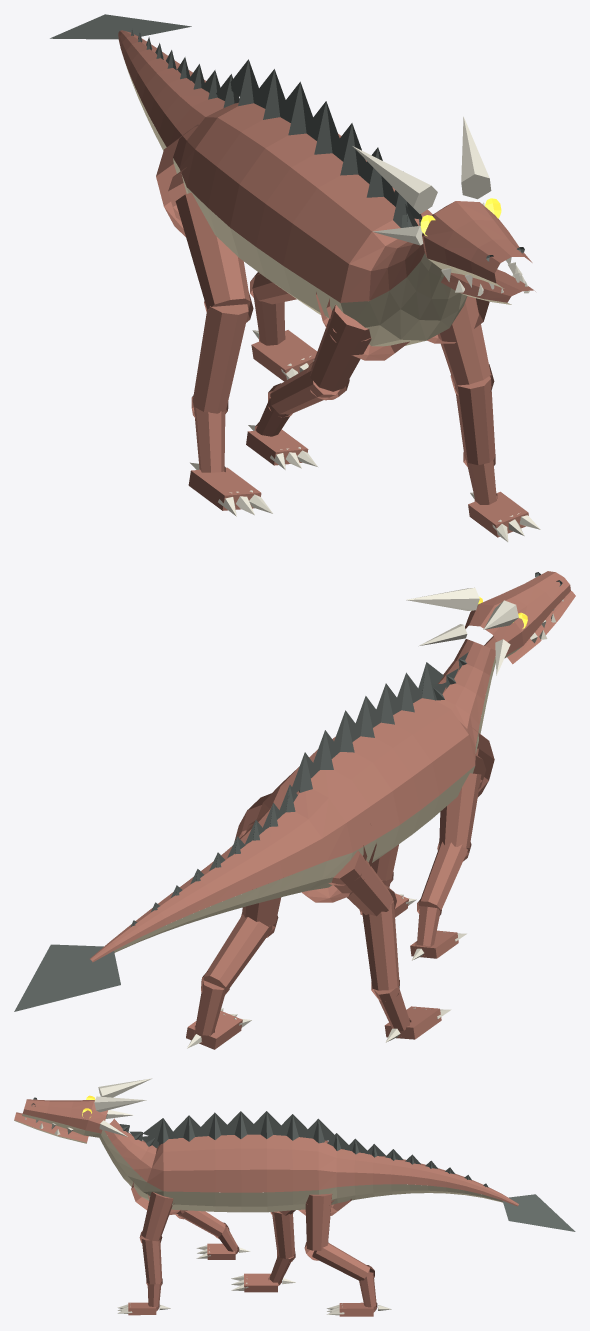
Rendered from dragons-and-wyverns-drake-walking-e3693bab__36727.glb.
3 renders of one model, top to bottom at view 1: azimuth 30°, elevation 25°; view 2: azimuth 150°, elevation 25°; view 3: azimuth 270°, elevation 25°, orthographic. The views are drawn at different scales.
Parts seen in each view (by area): view 1: drake-walking; view 2: drake-walking; view 3: drake-walking.
Boxes of the visible parts, bbox=[...] form: drake-walking: bbox=[50, 14, 540, 541]; drake-walking: bbox=[14, 571, 575, 1049]; drake-walking: bbox=[14, 1078, 575, 1316].
Bounding box in the file's own units: 0.7331 × 1.3 × 3.04.
